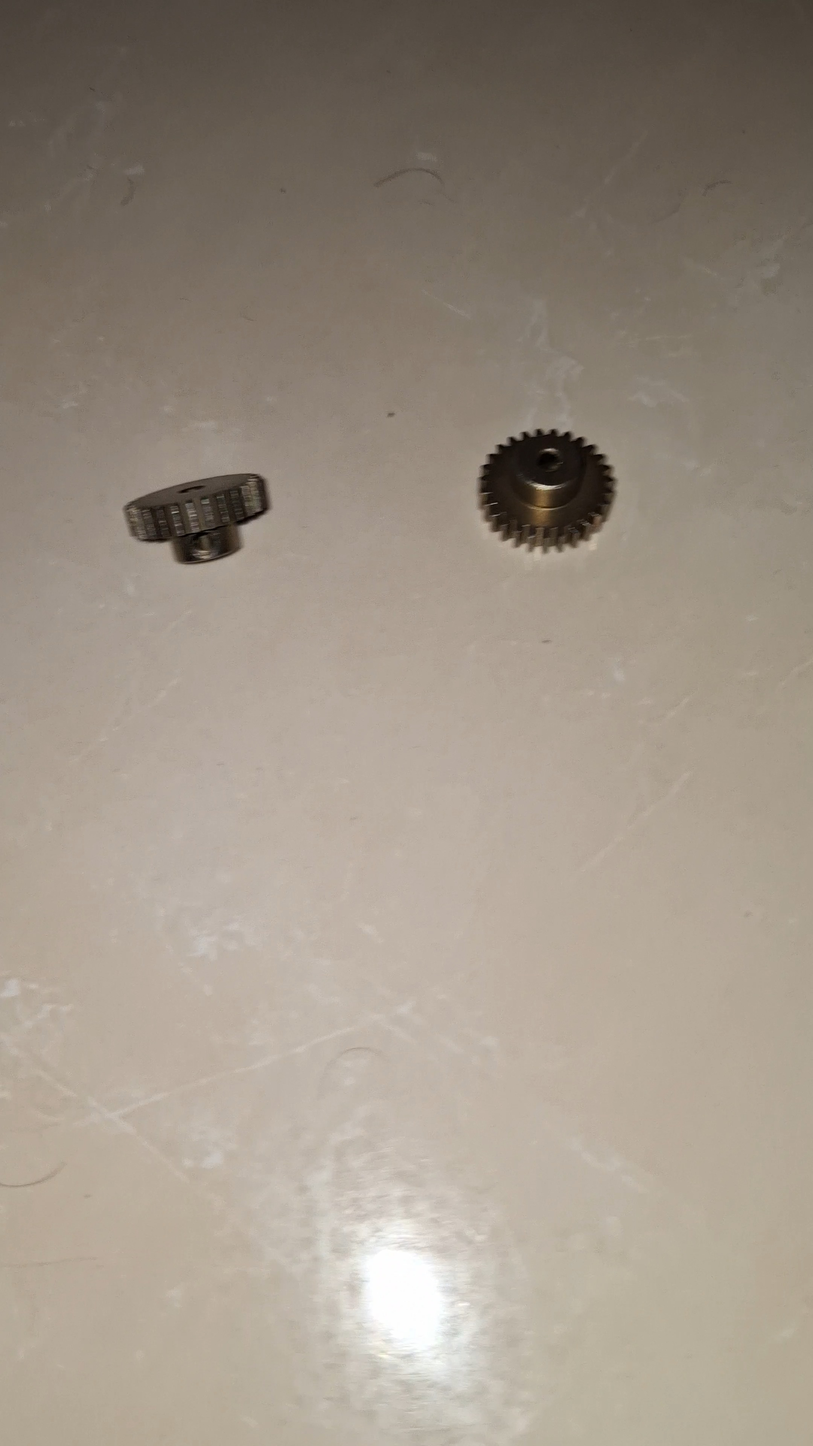spur gear: (480, 431, 614, 550), (124, 474, 268, 563)
